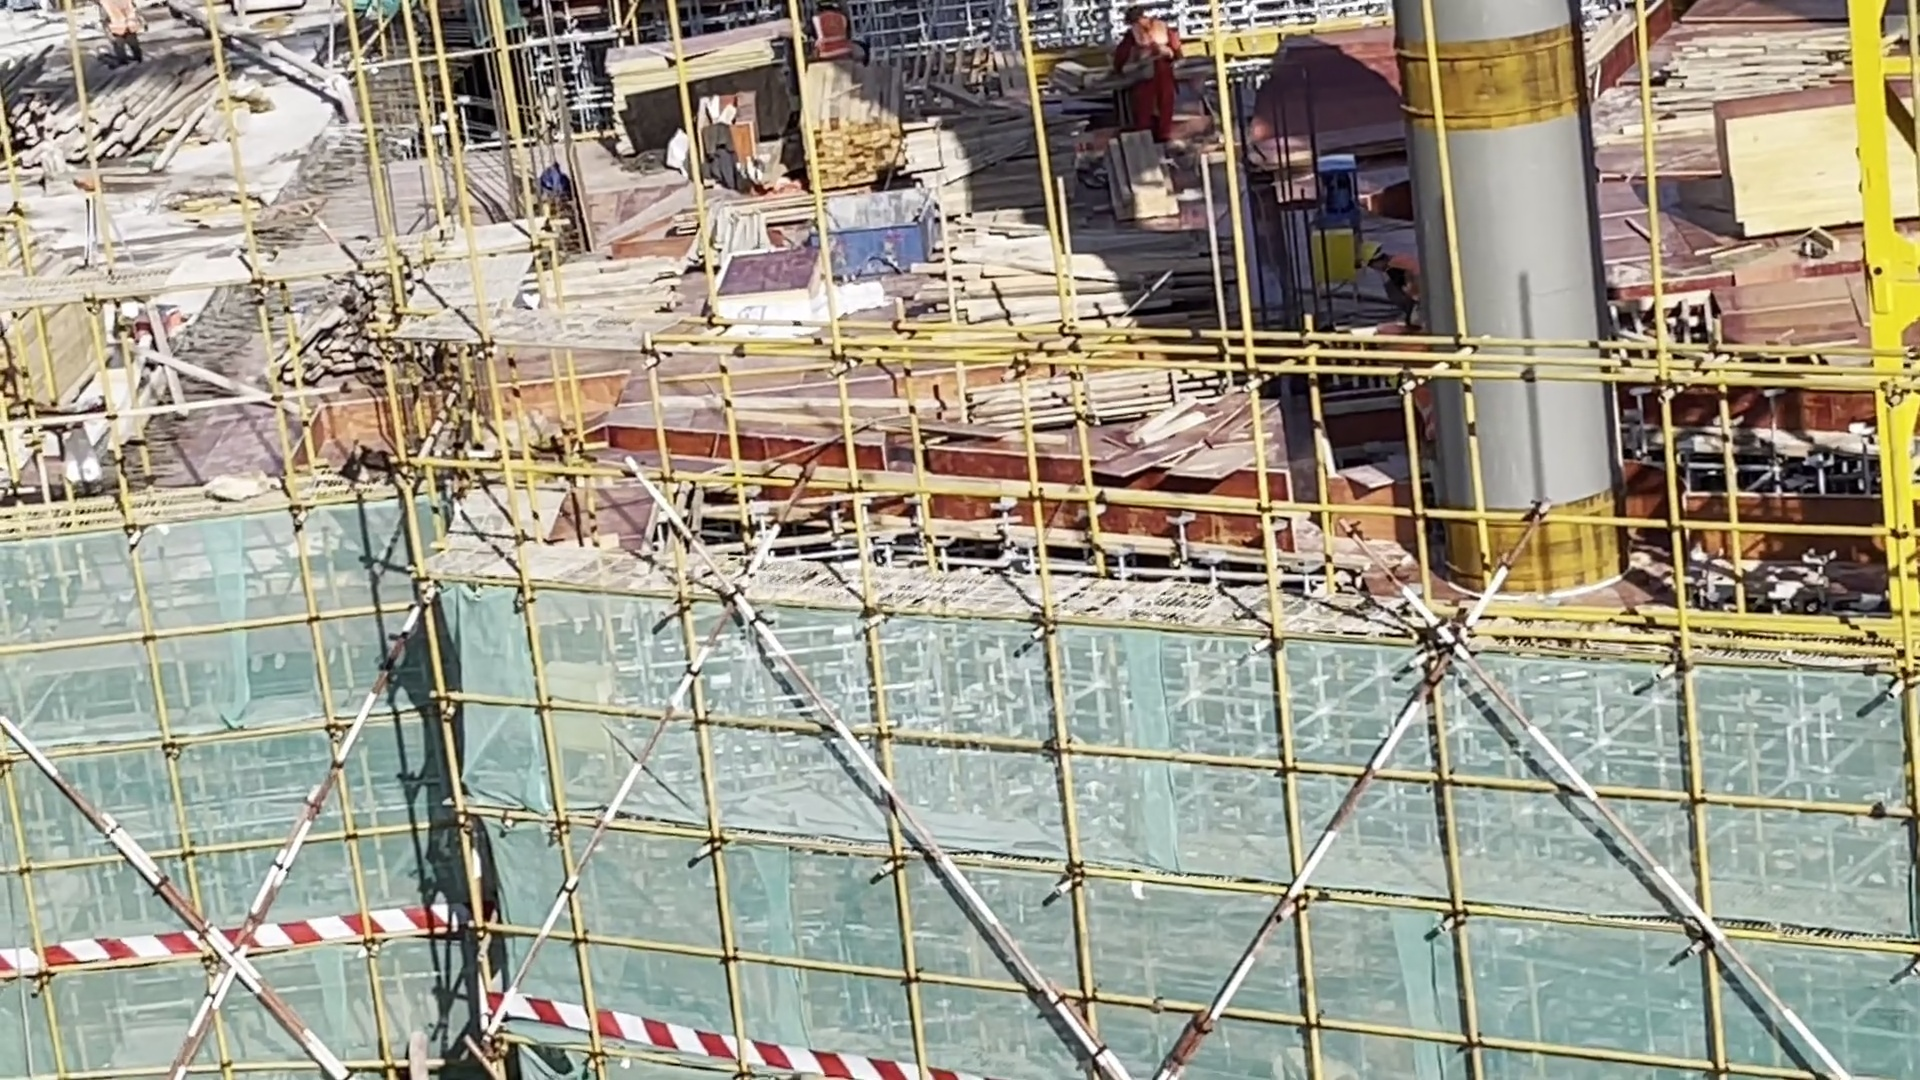board: (1121, 394, 1254, 482)
helmet: (1357, 239, 1383, 270)
hopper: (823, 197, 955, 270)
person: (1105, 5, 1187, 138), (1347, 248, 1433, 326)
vest: (1124, 38, 1171, 112), (1382, 258, 1423, 321), (806, 10, 847, 55)
wood: (925, 207, 1186, 339), (38, 67, 234, 192), (1638, 17, 1877, 119), (769, 70, 904, 194)
